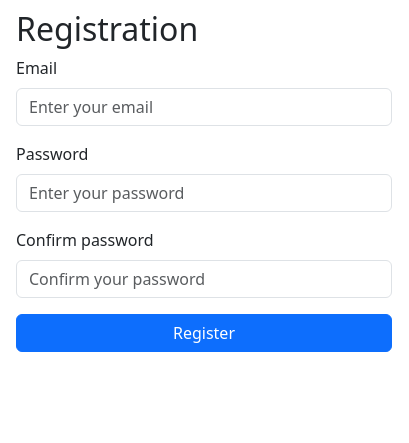
it: RegisterPage (simple) › shows validation error when passwords do not match
In the field with placeholder "Enter your email": (204, 107) [16, 88, 392, 126], type "user@example.com"
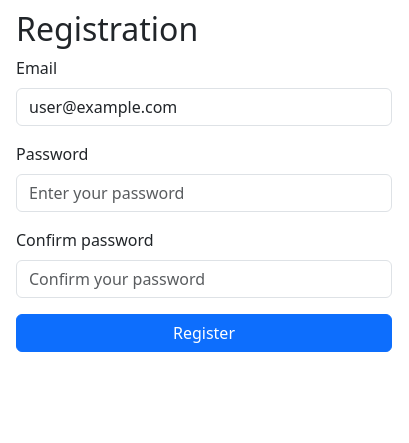
In the password field with placeholder "Enter your password": (204, 193) [16, 174, 392, 212], type "pass1"
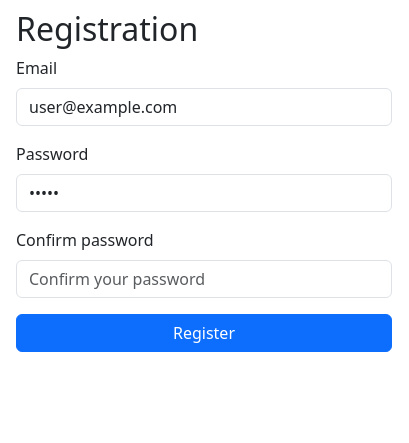
In the password field with placeholder "Confirm your password": (204, 279) [16, 260, 392, 298], type "pass2"
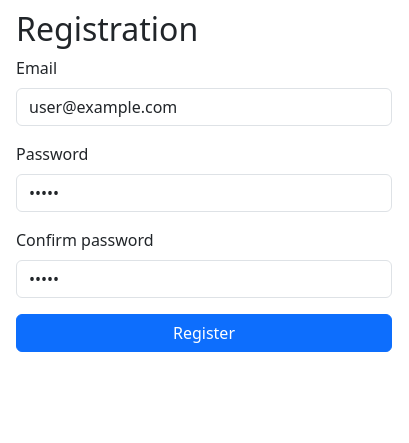
Click the button "Register": (204, 333) [16, 314, 392, 352]
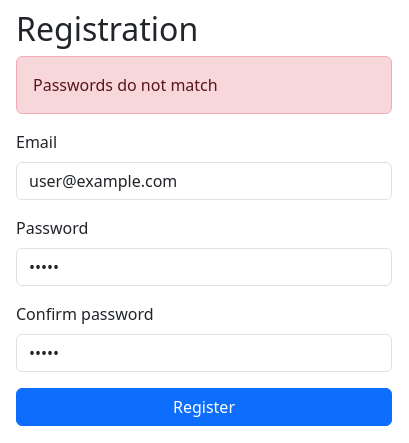
Result: the text "Passwords do not match" is shown at [16, 56, 392, 114]
